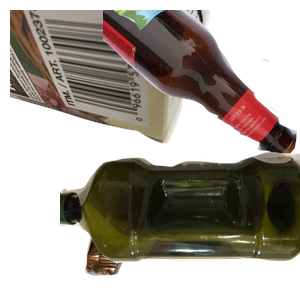cardboard: (10, 10, 213, 146)
glass: (103, 10, 300, 163)
plastic: (60, 149, 300, 300)
trash: (83, 160, 233, 300)
